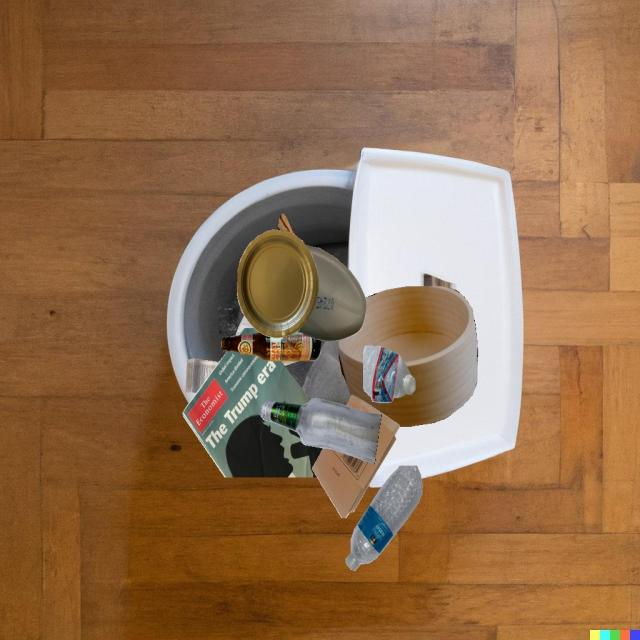cardboard: (312, 394, 400, 518)
combustible waste: (339, 286, 478, 427)
glass: (261, 398, 381, 464), (221, 331, 321, 361)
paper: (183, 351, 323, 477), (237, 229, 319, 338), (185, 358, 219, 393), (277, 214, 298, 238), (236, 315, 254, 336), (281, 361, 299, 366)
plastic: (346, 466, 423, 571), (297, 245, 366, 341), (363, 346, 415, 403)
